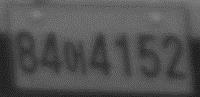1: (113, 30, 134, 77)
2: (162, 33, 187, 80)
4: (39, 29, 64, 75), (89, 31, 112, 77)
5: (135, 31, 162, 78)
8: (15, 29, 40, 74)
어: (63, 39, 87, 77)
